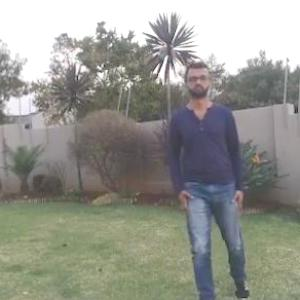follow: (166, 47, 250, 299)
